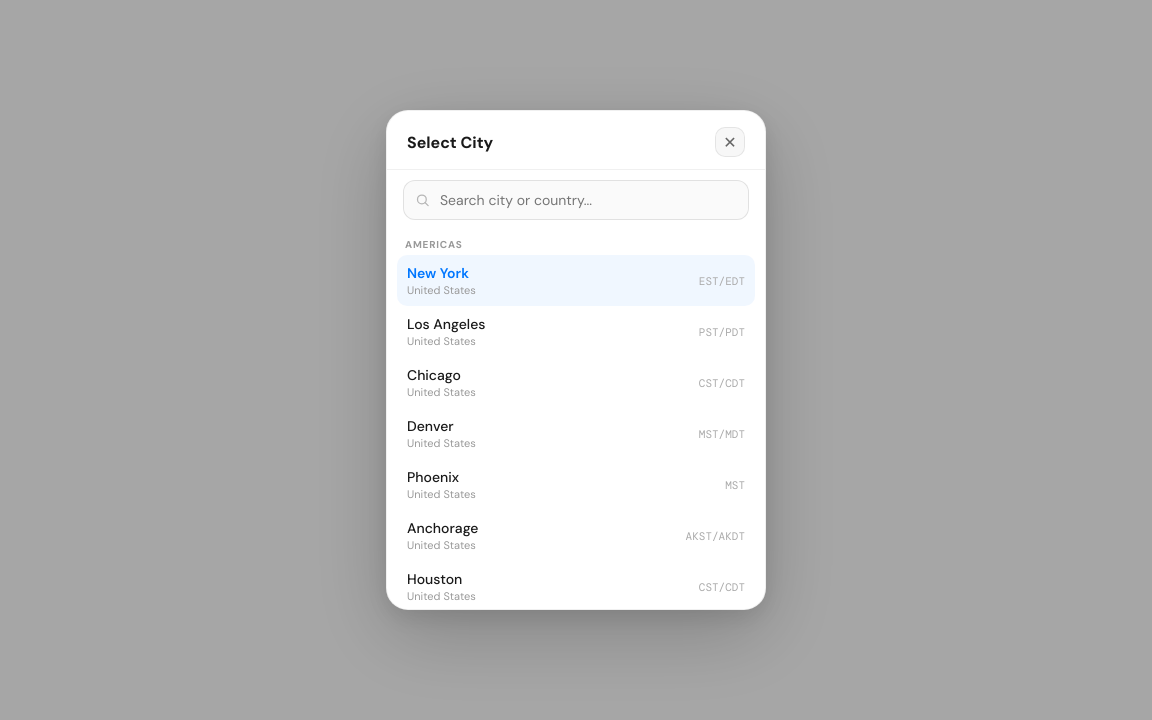
Test: TimezonePicker › shows 'No cities found' for no matches
Type "xyznonexistent" into the field with placeholder "Search city or country...".
click(576, 200); type("xyznonexistent")  # box [403,180,749,220]
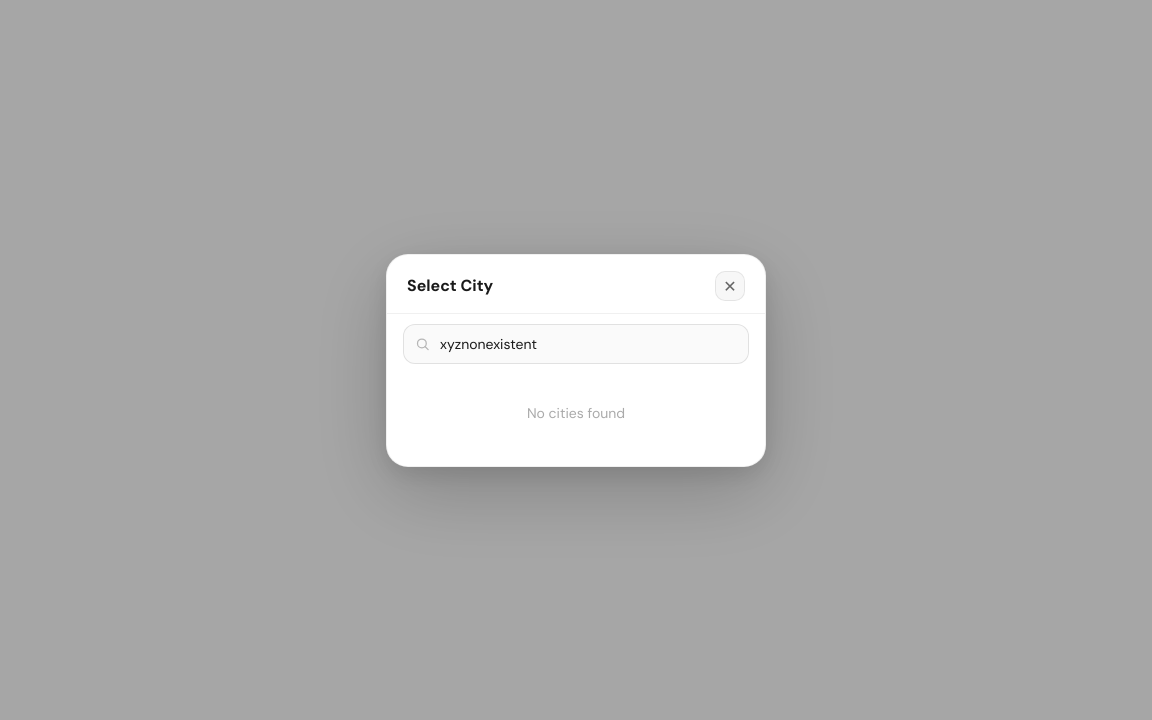
Check: the text "No cities found" is shown, box [527,404,625,422]
